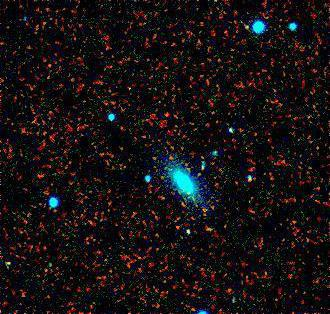star: (151, 101, 181, 131)
